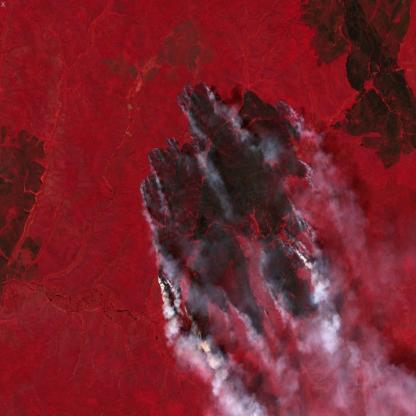fire: (136, 80, 336, 364)
